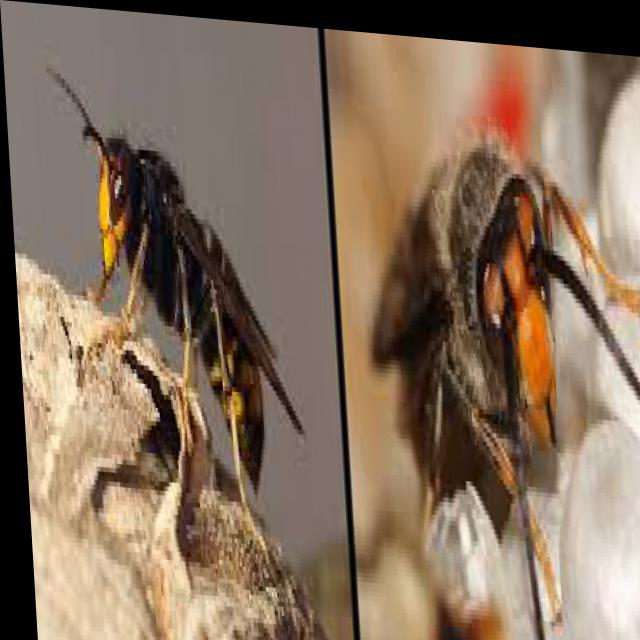Vespa Velutina: (345, 97, 639, 639), (39, 55, 309, 560)
